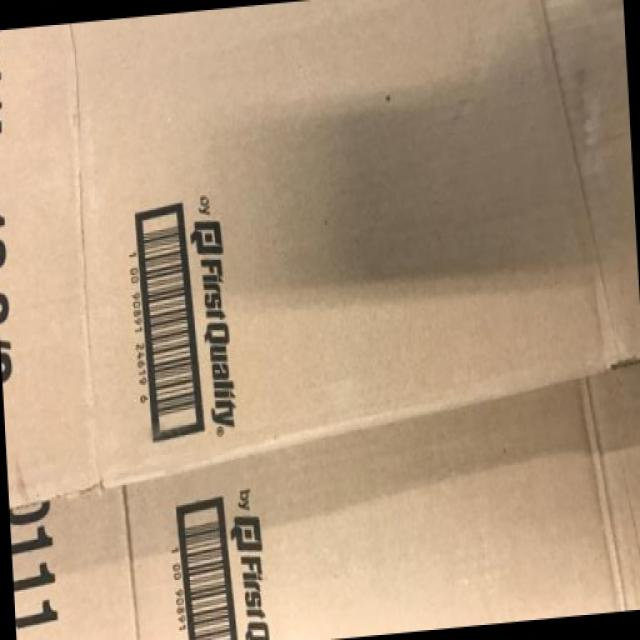carton: (17, 51, 332, 532)
